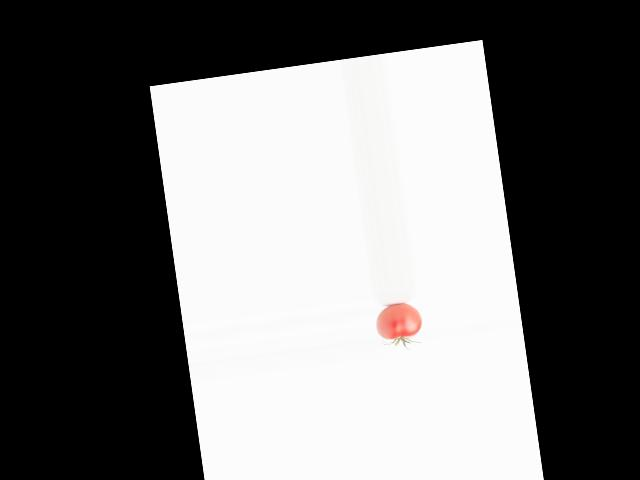tomato: (374, 301, 424, 341)
